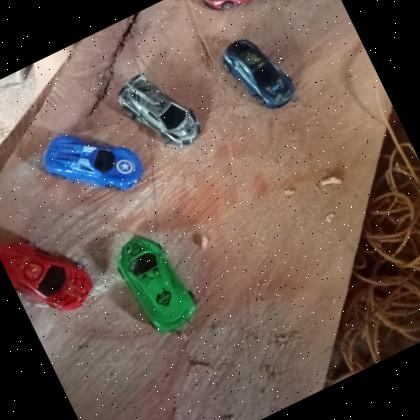Car: (32, 104, 152, 220), (106, 221, 206, 342), (0, 213, 101, 329), (108, 56, 210, 167), (215, 23, 302, 122), (193, 0, 290, 26)
